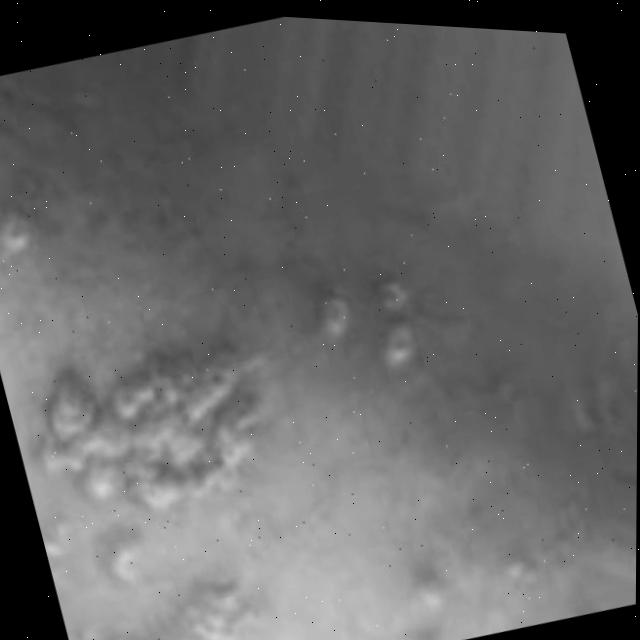Shingles: (1, 323, 325, 640), (298, 270, 430, 405), (0, 204, 36, 250)
